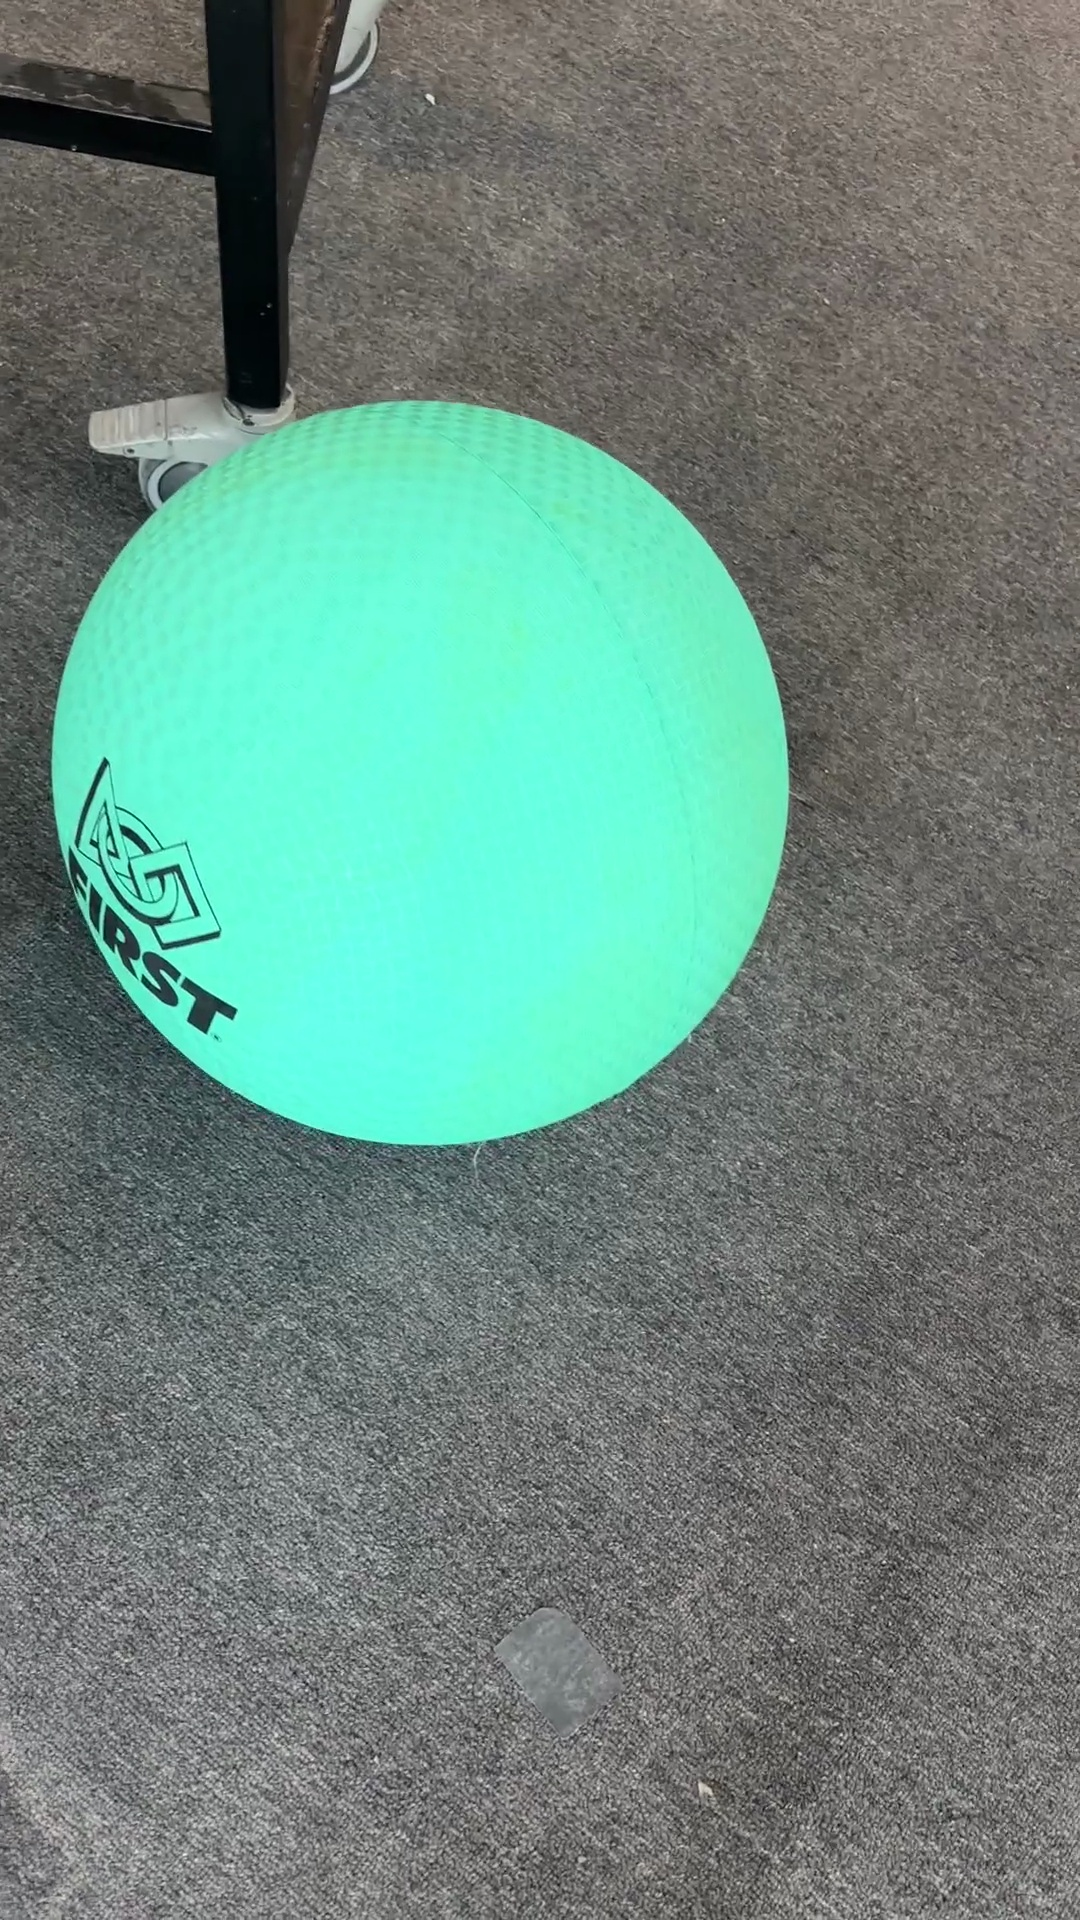algae: (47, 396, 793, 1150)
coral: (49, 394, 793, 1149)
